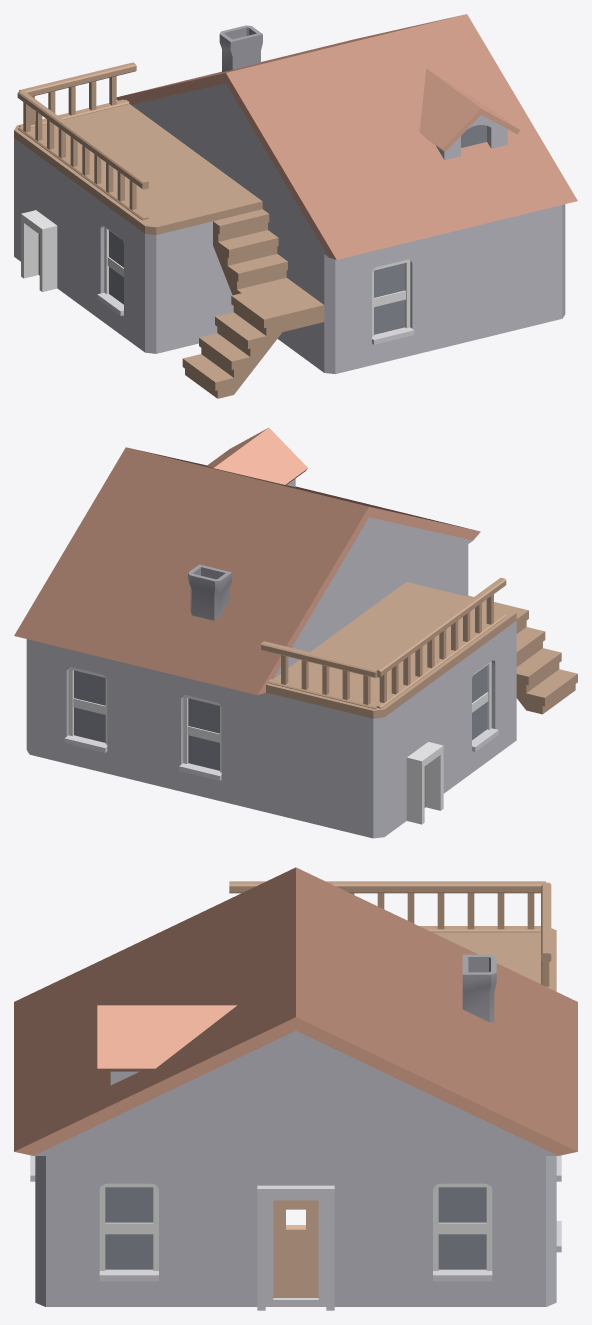
Rendered from neighborhoodfbx.fbx.
3 views of the same model, one above another, from view 1: azimuth 30°, elevation 25°; view 2: azimuth 150°, elevation 25°; view 3: azimuth 270°, elevation 25° (orthographic). The views are drawn at different scales.
Parts seen in each view (by area): view 1: house2; view 2: house2; view 3: house2.
Boxes of the visible parts, <box> form: house2: <box>14,14,577,398</box>; house2: <box>14,427,577,838</box>; house2: <box>14,867,577,1310</box>.
Bounding box in the file's own units: 331 × 192 × 338.
